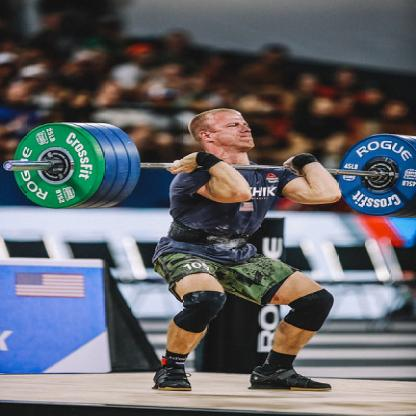barbell: (13, 123, 101, 210), (336, 134, 416, 217)
